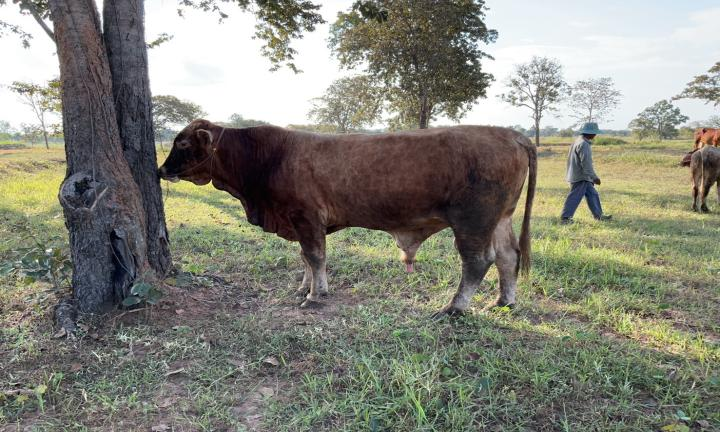Charolais: (159, 119, 537, 314)
